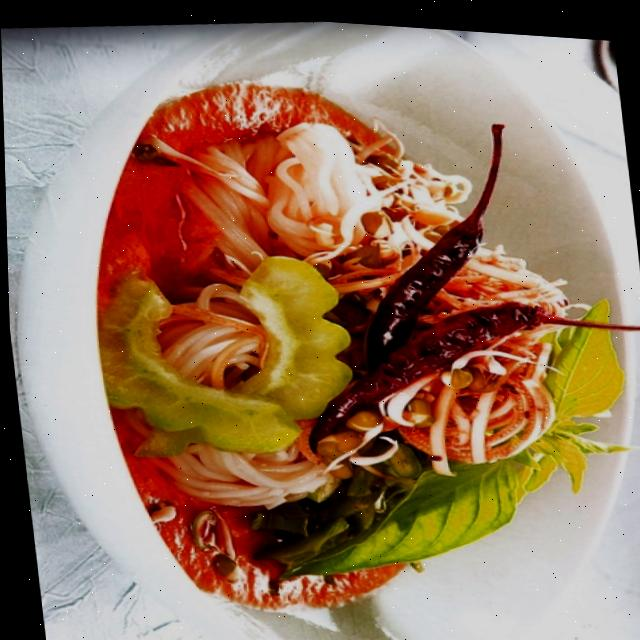面条主食: (17, 1, 640, 640)
